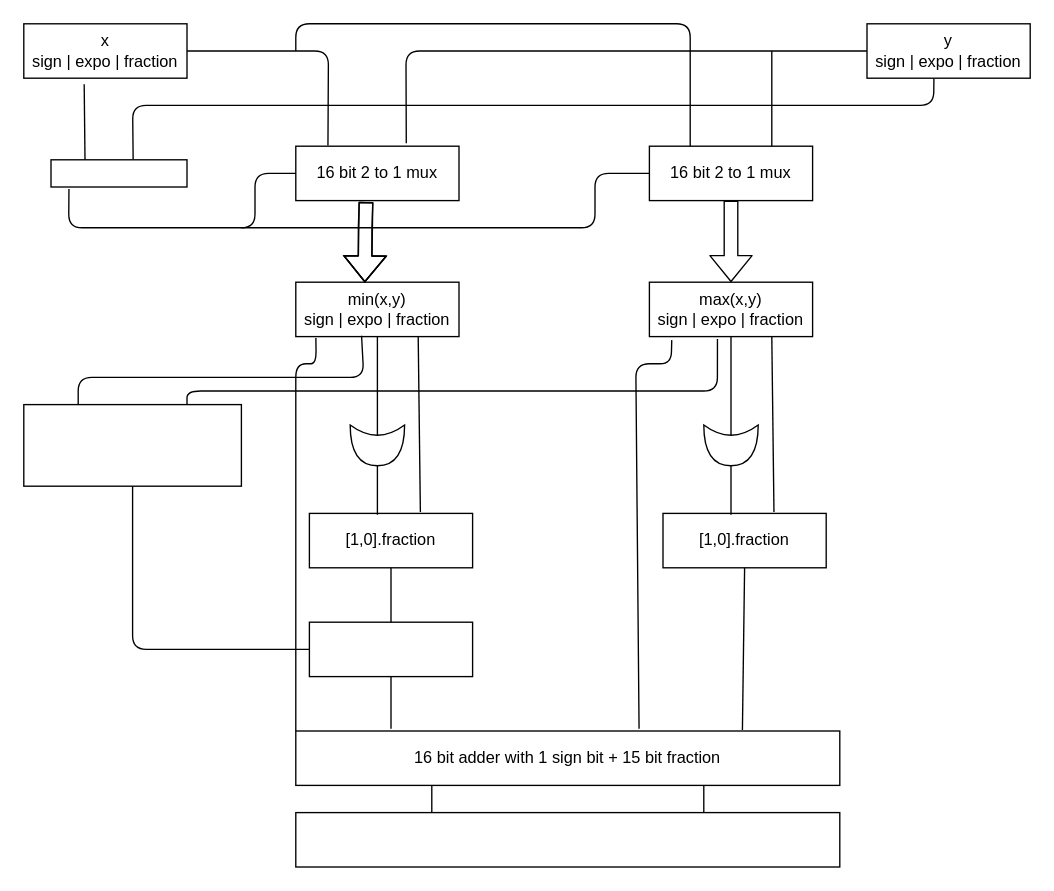
Image size: 1054x891. Some labels were removed from this diagram. Here are the shapes that lost their labels. From the top down, the box of each, then its label:
(50, 158, 187, 187): x<y | x = y | x> y
(22, 403, 241, 486): diff_expo= max_expo - min_expo
(308, 621, 473, 677): 16 bit right shifter
(294, 811, 840, 867): 2's complement if sign of answer of adder is negative
